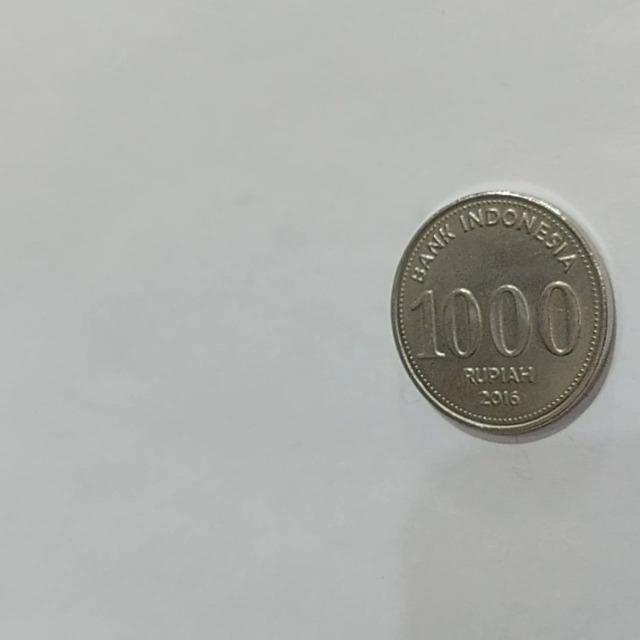Rp100: (388, 188, 615, 440)
